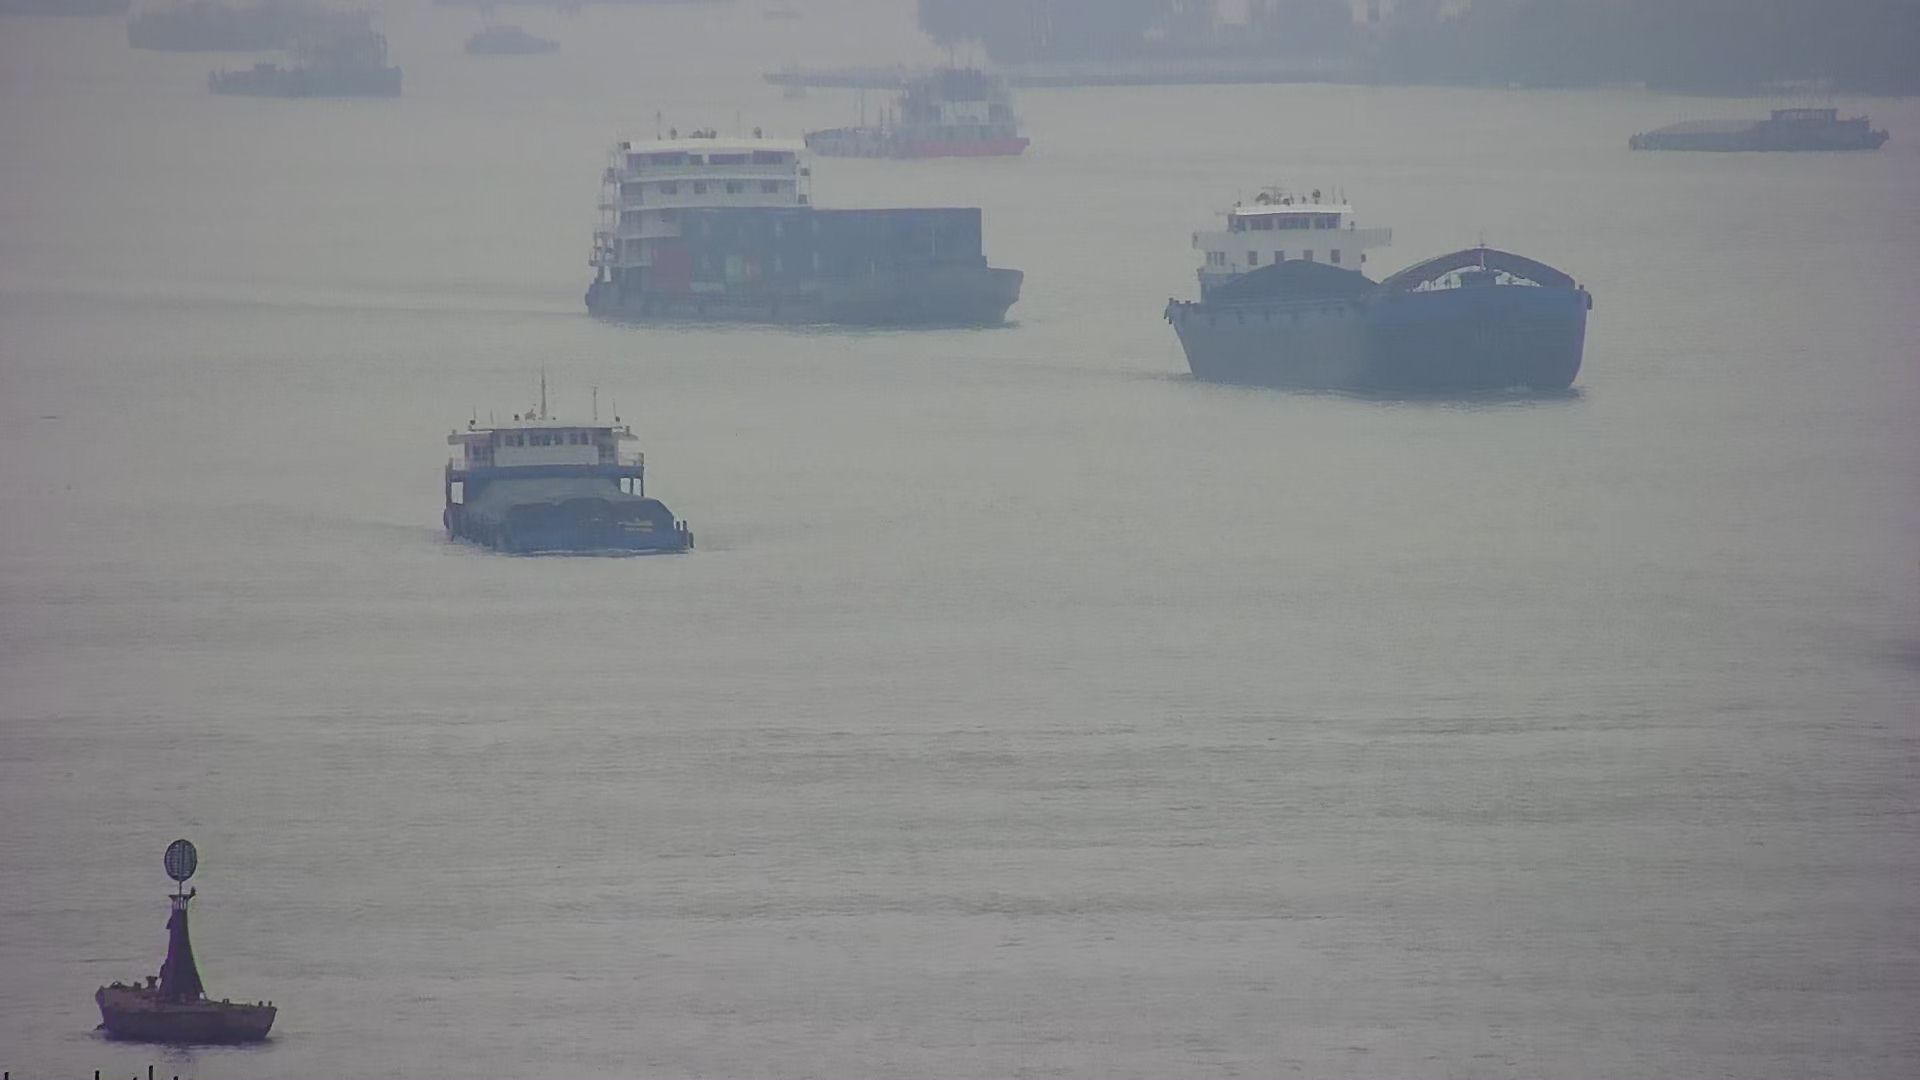platform: (92, 839, 280, 1044)
ship: (1166, 191, 1598, 400), (587, 135, 1026, 331), (448, 400, 695, 555), (804, 65, 1030, 165), (203, 30, 404, 102), (1627, 105, 1890, 149)
